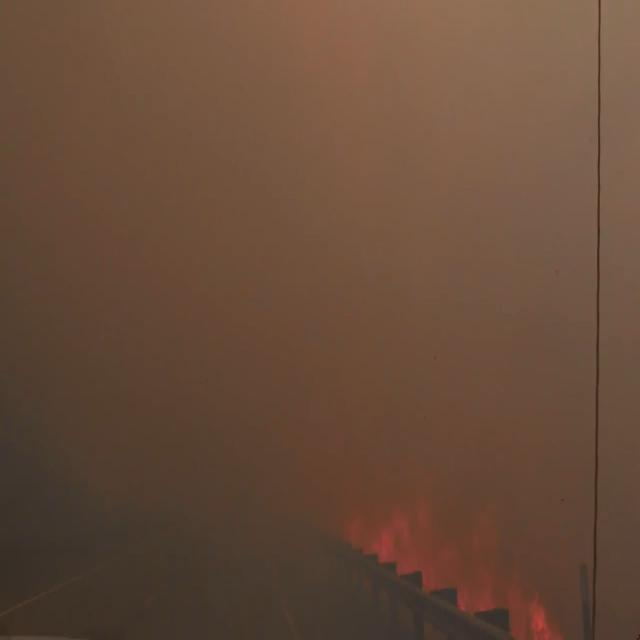Fire: (344, 499, 556, 640)
